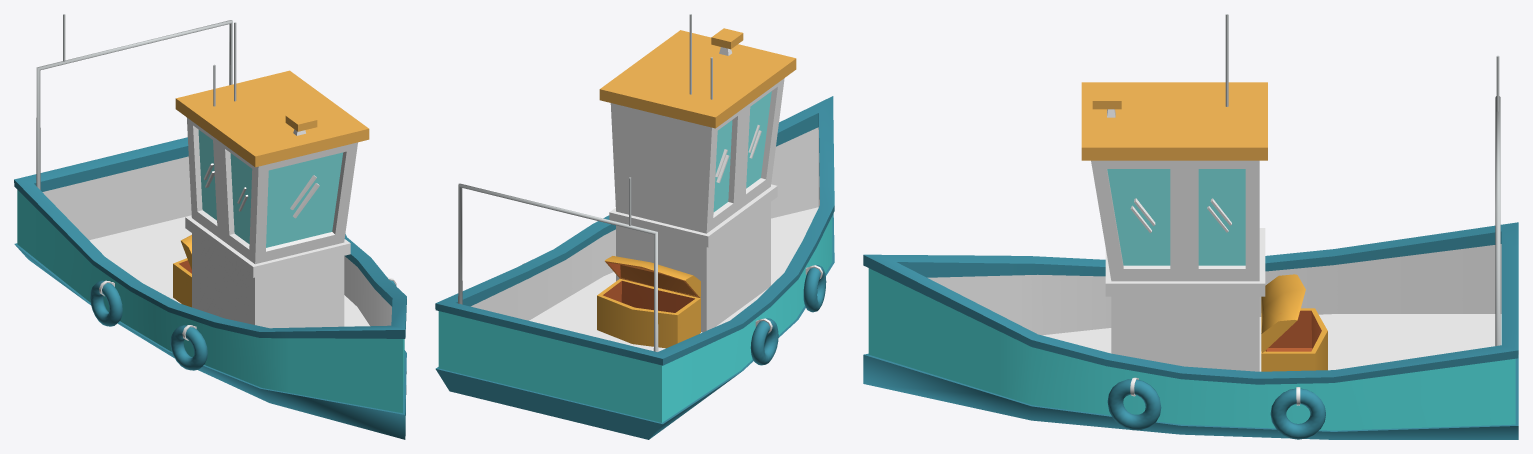
The model's file is Boat_LP_FBX.FBX.
3 renders of one model, left to right at view 1: azimuth 30°, elevation 25°; view 2: azimuth 150°, elevation 25°; view 3: azimuth 270°, elevation 25°, orthographic. The views are drawn at different scales.
Visible parts, largest first — view 1: Boat_LP, lifebuoys_LP, Pole_LP, Chest_bottom_LP, Windows_LP, Radar_LP, Antennas_LP; view 2: Boat_LP, Chest_bottom_LP, lifebuoys_LP, Pole_LP, Chest_top_LP, Radar_LP, Antennas_LP, Windows_LP; view 3: Boat_LP, lifebuoys_LP, Chest_bottom_LP, Chest_top_LP, Pole_LP, Radar_LP.
Part boxes in pixels (<box>): Boat_LP: <box>14,70,406,439</box>; lifebuoys_LP: <box>90,234,396,370</box>; Pole_LP: <box>36,20,232,189</box>; Chest_bottom_LP: <box>173,258,191,307</box>; Windows_LP: <box>204,163,319,218</box>; Radar_LP: <box>285,111,317,135</box>; Antennas_LP: <box>63,14,236,106</box>; Boat_LP: <box>435,30,834,439</box>; Chest_bottom_LP: <box>597,278,700,348</box>; lifebuoys_LP: <box>522,263,826,365</box>; Pole_LP: <box>458,183,658,351</box>; Chest_top_LP: <box>605,256,700,298</box>; Radar_LP: <box>711,28,743,55</box>; Antennas_LP: <box>629,14,712,225</box>; Windows_LP: <box>715,125,761,182</box>; Boat_LP: <box>863,82,1518,439</box>; lifebuoys_LP: <box>1107,377,1325,439</box>; Chest_bottom_LP: <box>1261,308,1327,371</box>; Chest_top_LP: <box>1261,274,1305,352</box>; Pole_LP: <box>1495,96,1500,345</box>; Radar_LP: <box>1092,90,1121,117</box>.
Size of the model in its own units: 23.49 by 28.18 by 46.42.
Materials: 1 (1 with a texture image).
